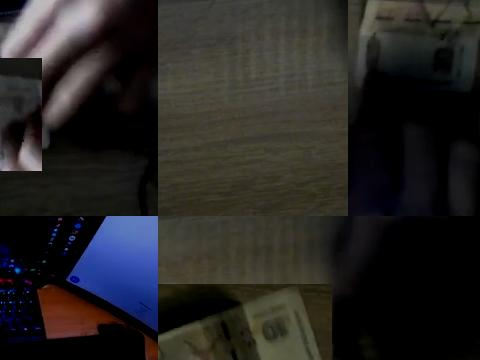10leva: (158, 284, 324, 360)
